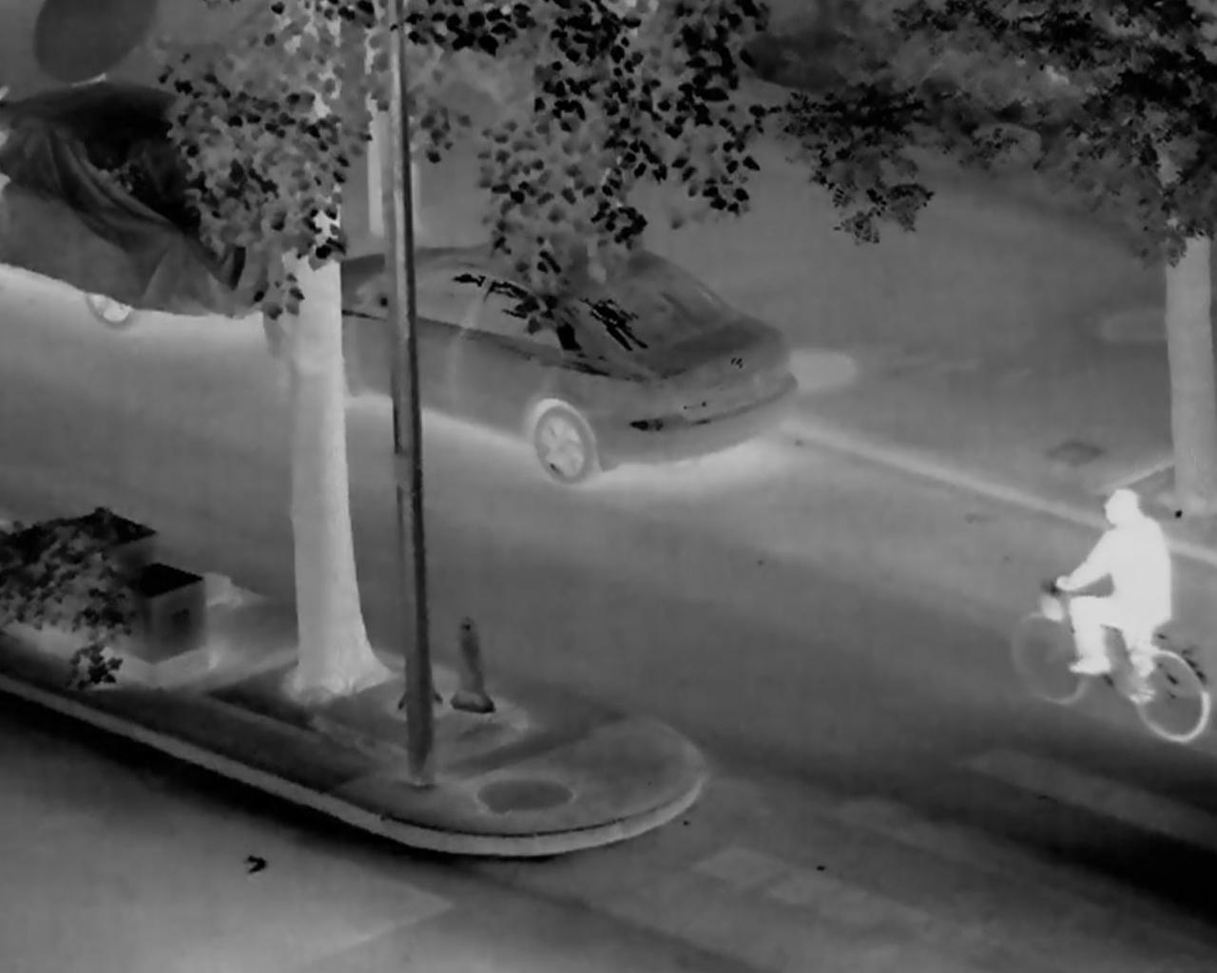person: (1054, 490, 1175, 704)
